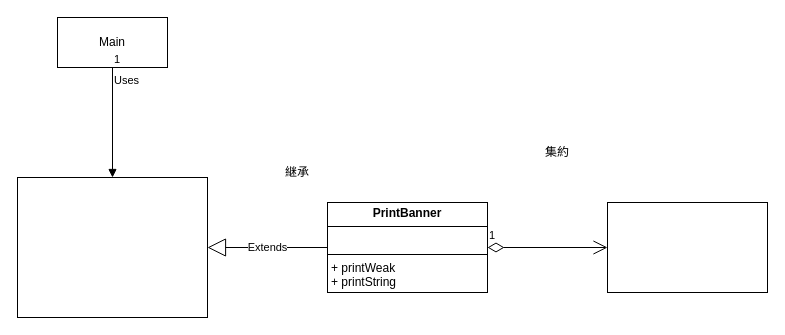
Image size: 785x335. Some labels were removed from this diagram. The shapes that lost their labels are listed below. From the top down, each one's centre as x and y in pixels, then its label:
pixel 112 247: Print + printWeak + printString
pixel 687 247: Banner + showWithParen + showWithAster
